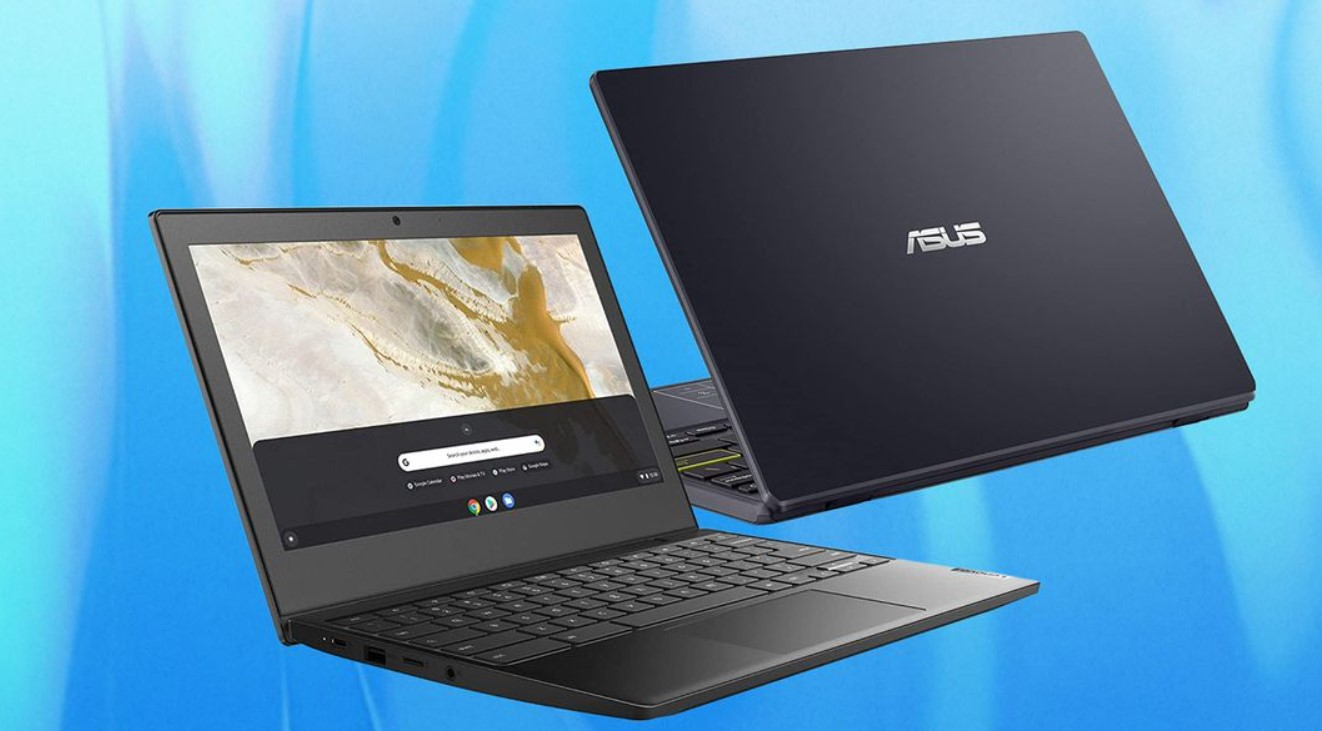laptops: (109, 182, 1065, 721), (548, 23, 1314, 528)
